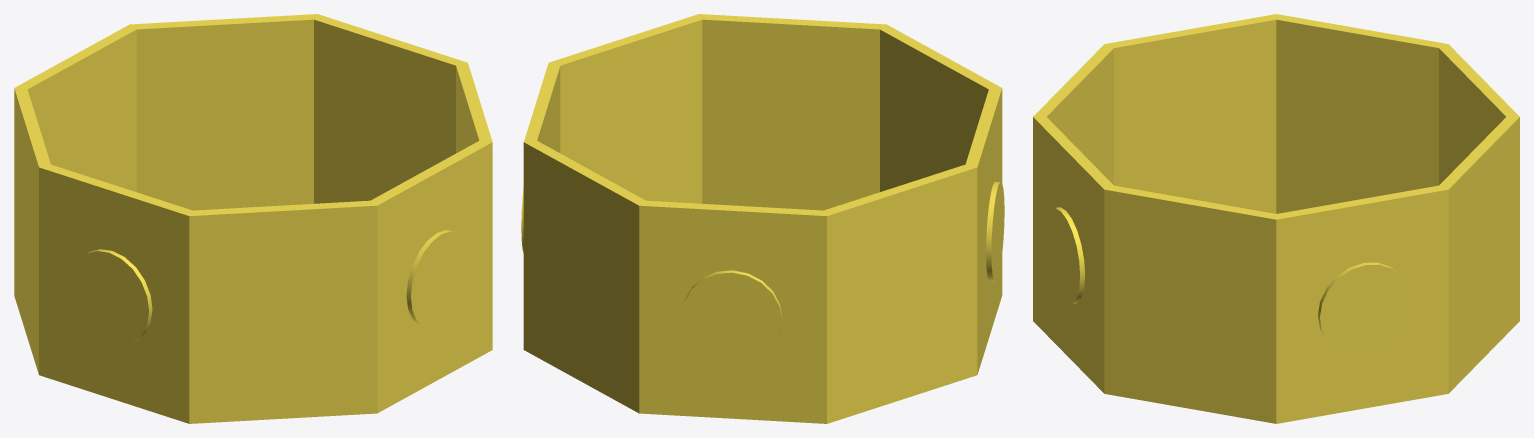
Rendered from ELE-CXA-003.glb.
3 renders of one model, left to right at view 1: azimuth 30°, elevation 25°; view 2: azimuth 150°, elevation 25°; view 3: azimuth 270°, elevation 25°, orthographic.
Visible parts, largest first — view 1: ELE-CXA-003_caixa, ELE-CXA-003_ko2, ELE-CXA-003_ko3; view 2: ELE-CXA-003_caixa, ELE-CXA-003_ko1, ELE-CXA-003_ko2; view 3: ELE-CXA-003_caixa, ELE-CXA-003_ko0, ELE-CXA-003_ko3.
Boxes of the visible parts, x1,y1,x2,y2 form: ELE-CXA-003_caixa: [14, 14, 492, 423]; ELE-CXA-003_ko2: [69, 249, 152, 345]; ELE-CXA-003_ko3: [406, 230, 472, 328]; ELE-CXA-003_caixa: [523, 14, 1002, 423]; ELE-CXA-003_ko1: [682, 270, 782, 363]; ELE-CXA-003_ko2: [986, 181, 1004, 281]; ELE-CXA-003_caixa: [1033, 14, 1519, 423]; ELE-CXA-003_ko0: [1318, 262, 1411, 355]; ELE-CXA-003_ko3: [1042, 207, 1084, 305].
Size of the model in its own units: 0.108 by 0.05 by 0.108.
